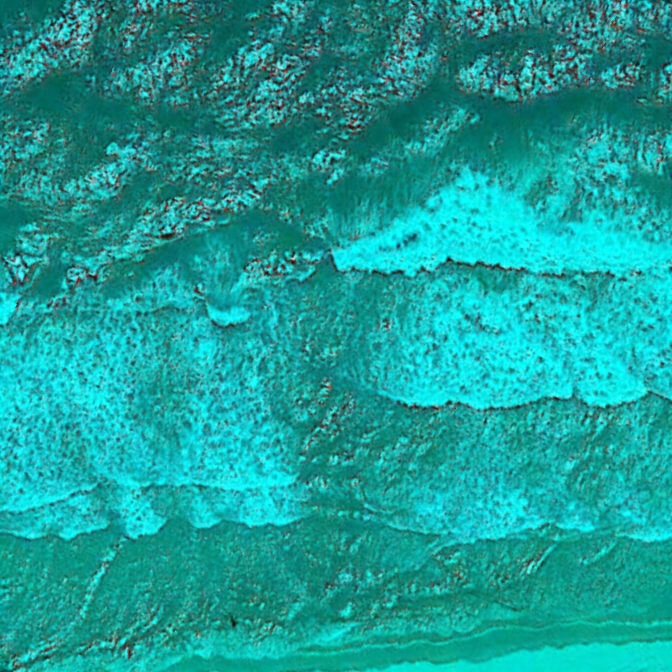rip_current: (163, 185, 476, 564)
